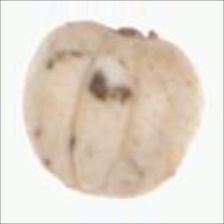L5: (67, 42, 145, 194), (95, 22, 169, 46)
L6: (20, 18, 206, 198)
